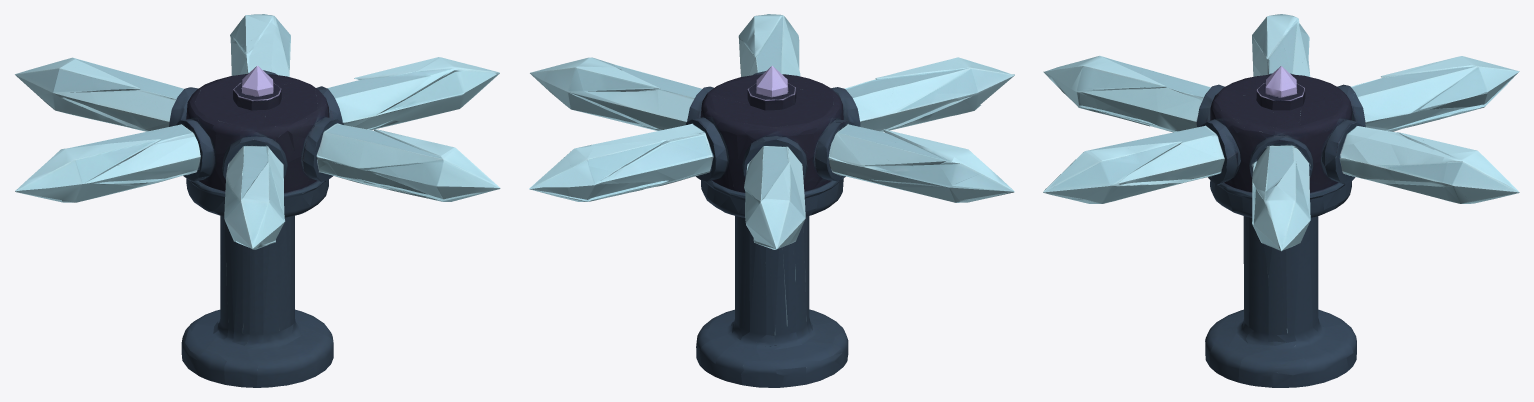
Rendered from blizzard.glb.
3 views of the same model, side by side, from view 1: azimuth 30°, elevation 25°; view 2: azimuth 150°, elevation 25°; view 3: azimuth 270°, elevation 25° (orthographic).
Size of the model in its own units: 1.9 by 1.09 by 1.62.
Materials: 1 (1 with a texture image).
